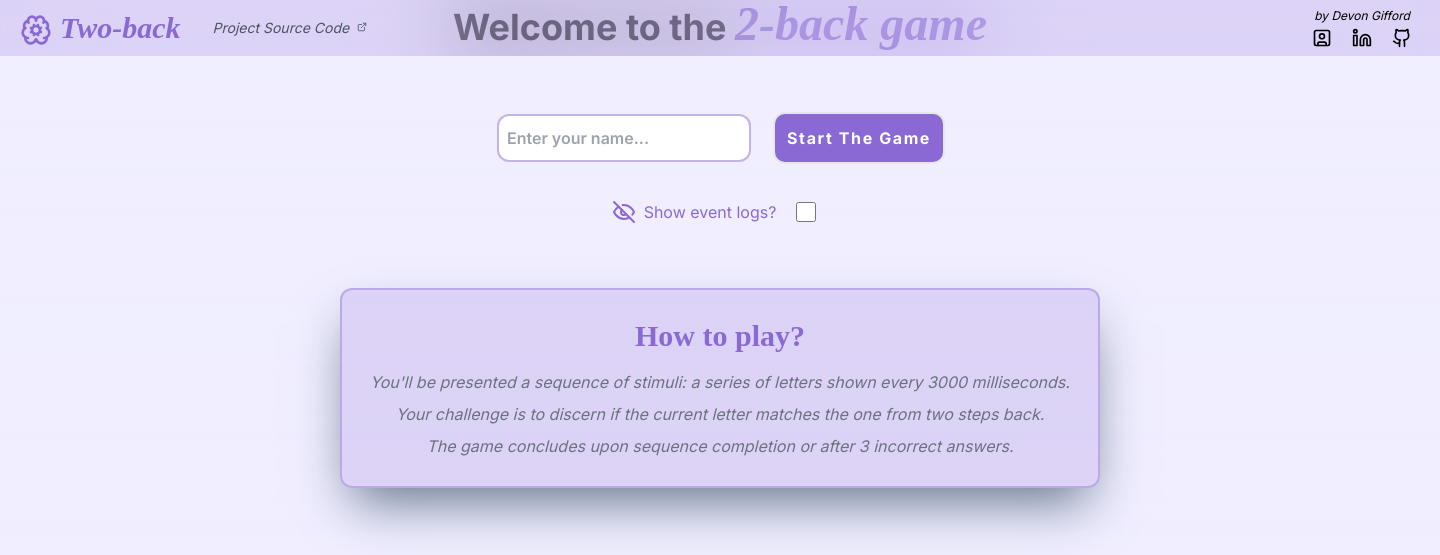
Test: Form Submission Tests › Empty Username, displays error message
The width and height of the screenshot is (1440, 555).
Click the field at (624, 138), box [497, 114, 751, 162]
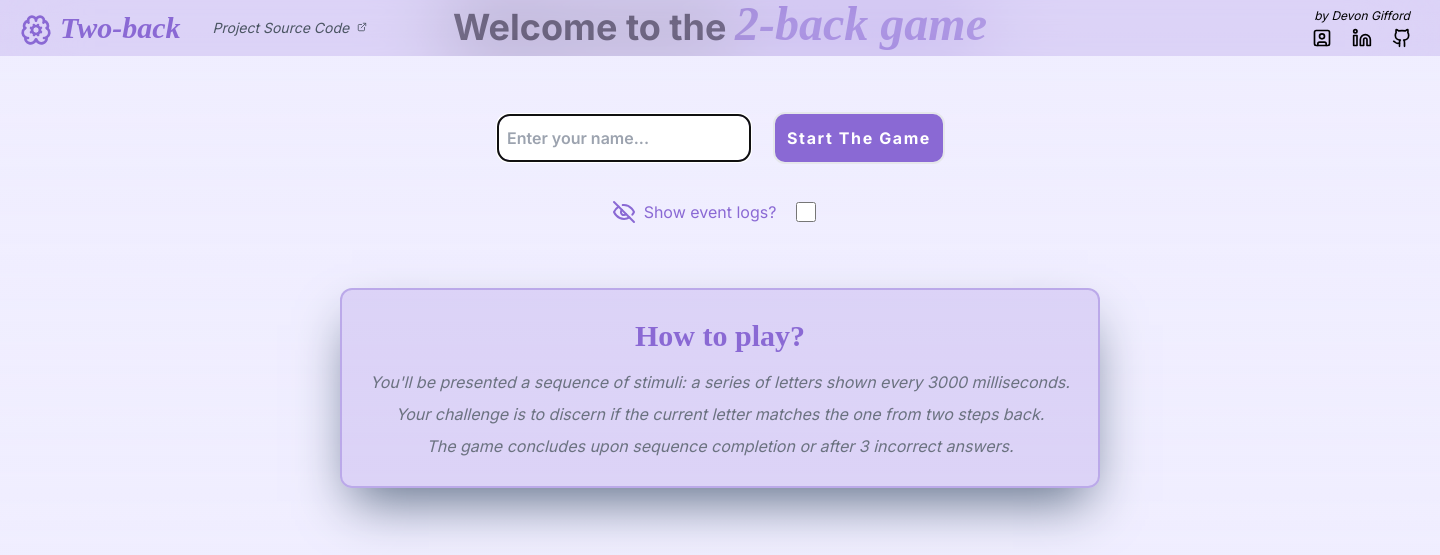
Click the button "Start The Game" at (859, 138), box [773, 112, 945, 164]
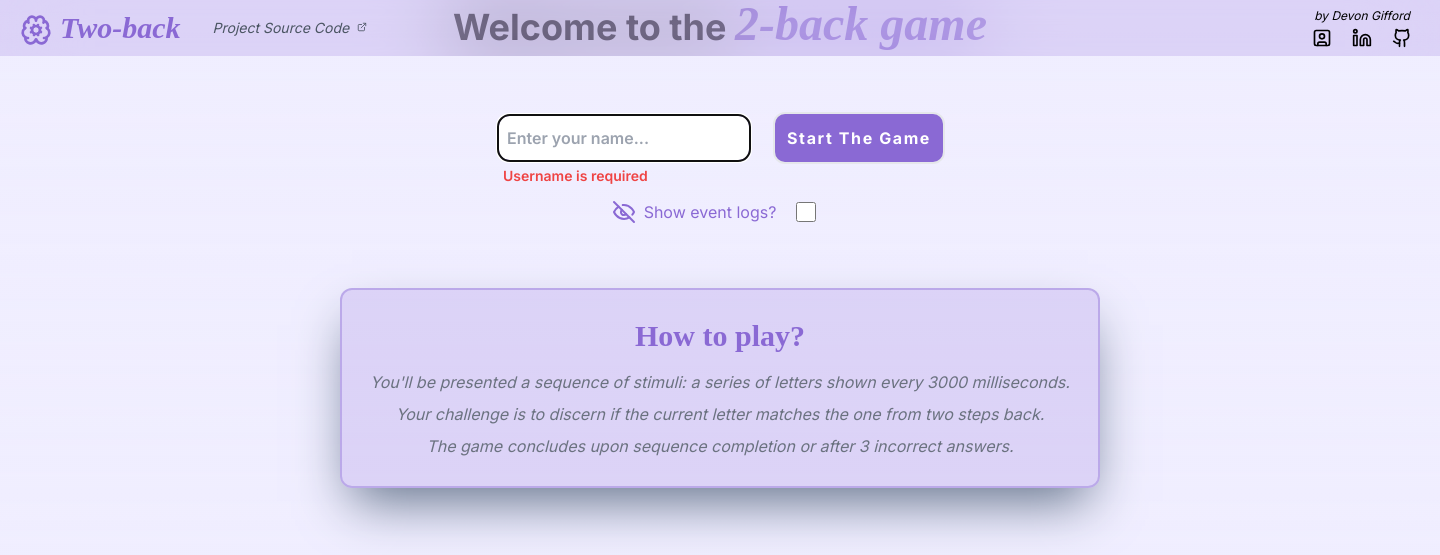
expect the text "Username is required" is shown: met, box [503, 166, 648, 182]
